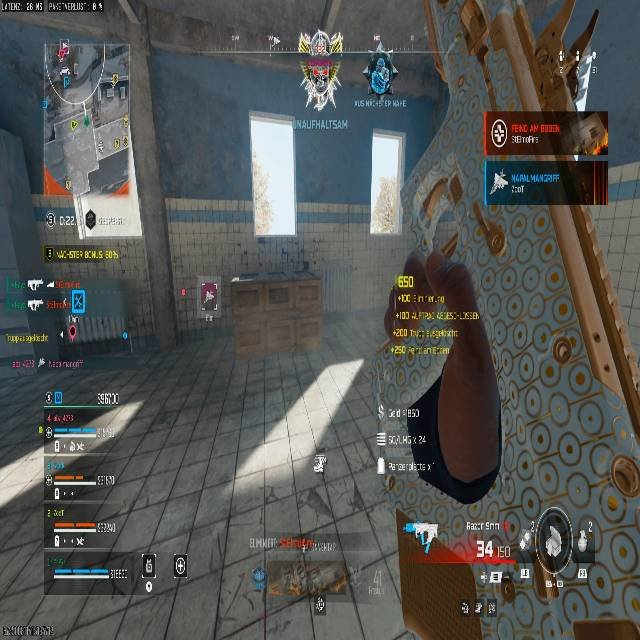player: (362, 43, 396, 102)
